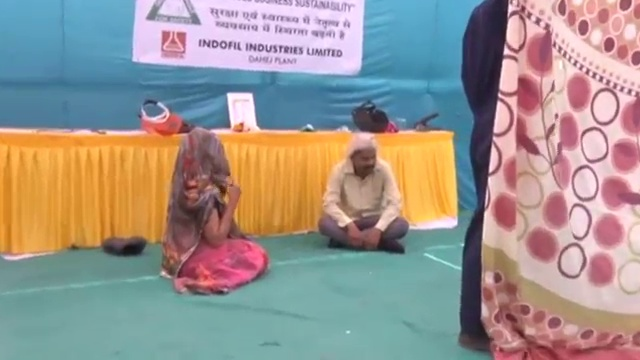helmet_off: (183, 129, 228, 171), (350, 134, 377, 180)
person: (456, 1, 509, 351), (163, 129, 268, 296), (317, 134, 409, 255)
